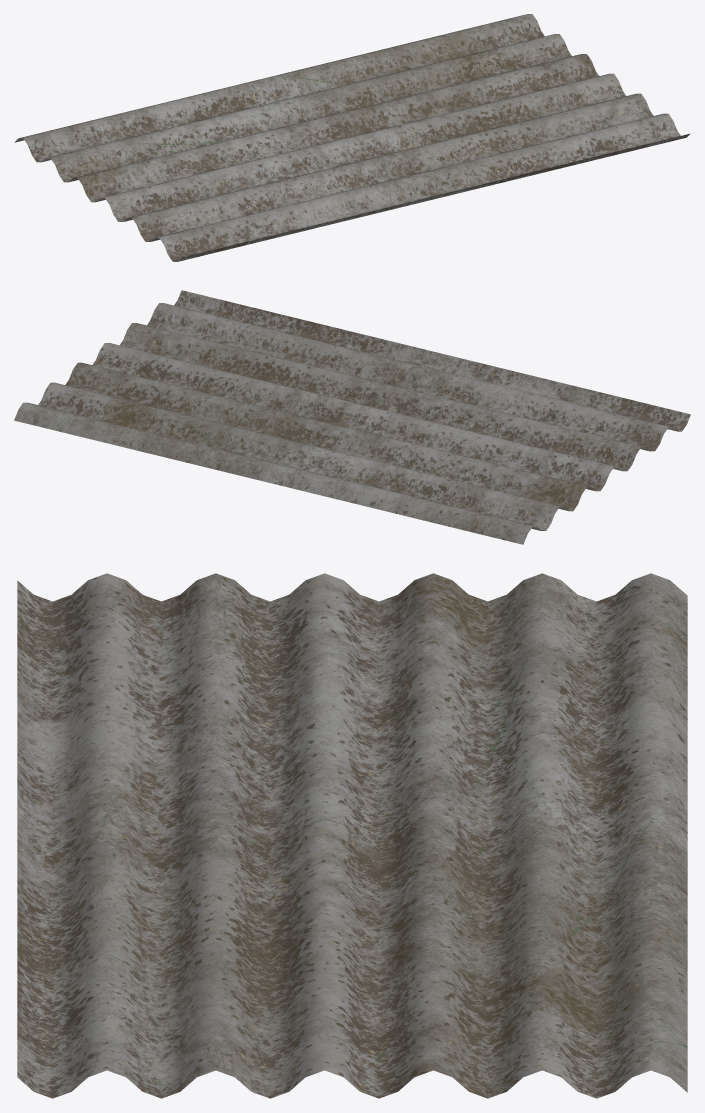
File: low_poly_roof_tile_game_ready.glb
3 renders of one model, top to bottom at view 1: azimuth 30°, elevation 25°; view 2: azimuth 150°, elevation 25°; view 3: azimuth 270°, elevation 25°, orthographic. The views are drawn at different scales.
Parts seen in each view (by area): view 1: Roof_tile; view 2: Roof_tile; view 3: Roof_tile.
Part boxes in pixels (left/top/right/bottom): Roof_tile: left=14, top=14, right=690, bottom=261; Roof_tile: left=14, top=290, right=690, bottom=544; Roof_tile: left=17, top=573, right=687, bottom=1098.
Size of the model in its own units: 1.83 by 0.0485 by 1.04.
Materials: 1 (1 with a texture image).
